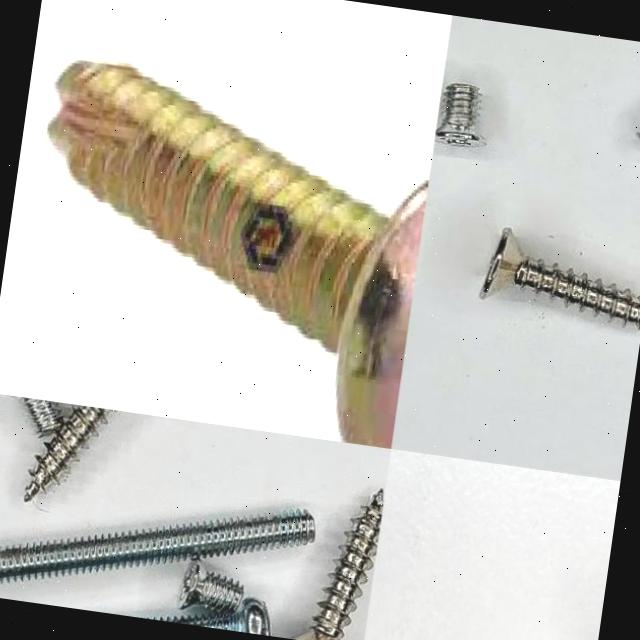Screw: (46, 60, 427, 449), (0, 509, 314, 581), (479, 229, 640, 328), (293, 489, 384, 640), (24, 405, 113, 501), (481, 243, 580, 304), (177, 558, 244, 613), (435, 83, 485, 146), (21, 397, 62, 437)
